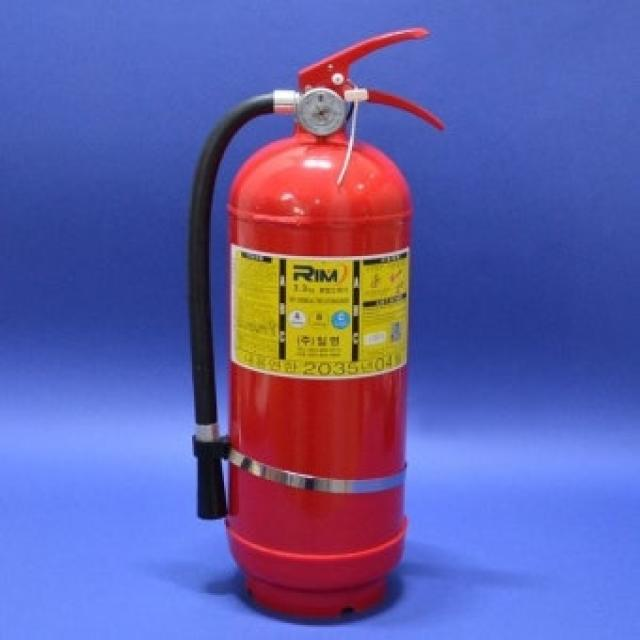pressure gauge: (297, 88, 344, 136)
